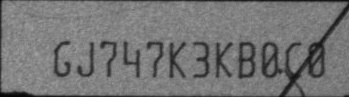0: (260, 40, 279, 79), (307, 41, 326, 79)
3: (192, 40, 210, 79)
4: (122, 41, 140, 77)
7: (146, 40, 163, 77), (100, 40, 117, 76)
B: (237, 41, 256, 78)
C: (285, 40, 303, 77)
G: (53, 40, 72, 77), (76, 41, 95, 77)
K: (169, 41, 186, 78), (215, 41, 232, 78)
